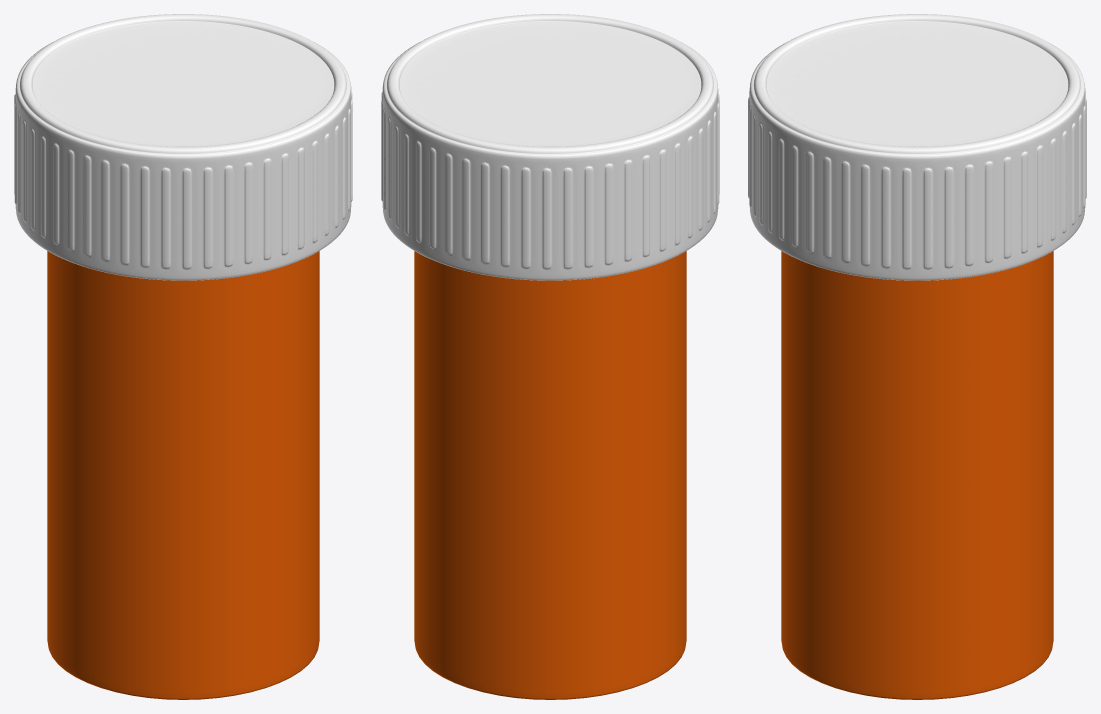
The model's file is Pills.fbx.
3 views of the same model, side by side, from view 1: azimuth 30°, elevation 25°; view 2: azimuth 150°, elevation 25°; view 3: azimuth 270°, elevation 25° (orthographic).
Parts seen in each view (by area): view 1: pCylinder4 (×2); view 2: pCylinder4 (×2); view 3: pCylinder4 (×2).
Part boxes in pixels (x1,y1,x2,y2): pCylinder4 (×2): (14,14,352,699); pCylinder4 (×2): (381,14,719,699); pCylinder4 (×2): (748,14,1086,699).
Bounding box in the file's own units: 4.02 × 7.37 × 4.03.
